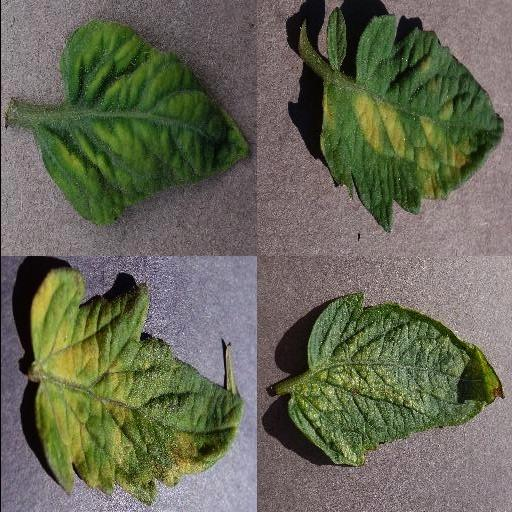Leaf Mold: (30, 268, 244, 505), (318, 16, 506, 234)
Spider Mites: (284, 294, 504, 468)
Yellow Leaf Curl Virus: (32, 19, 250, 223)
